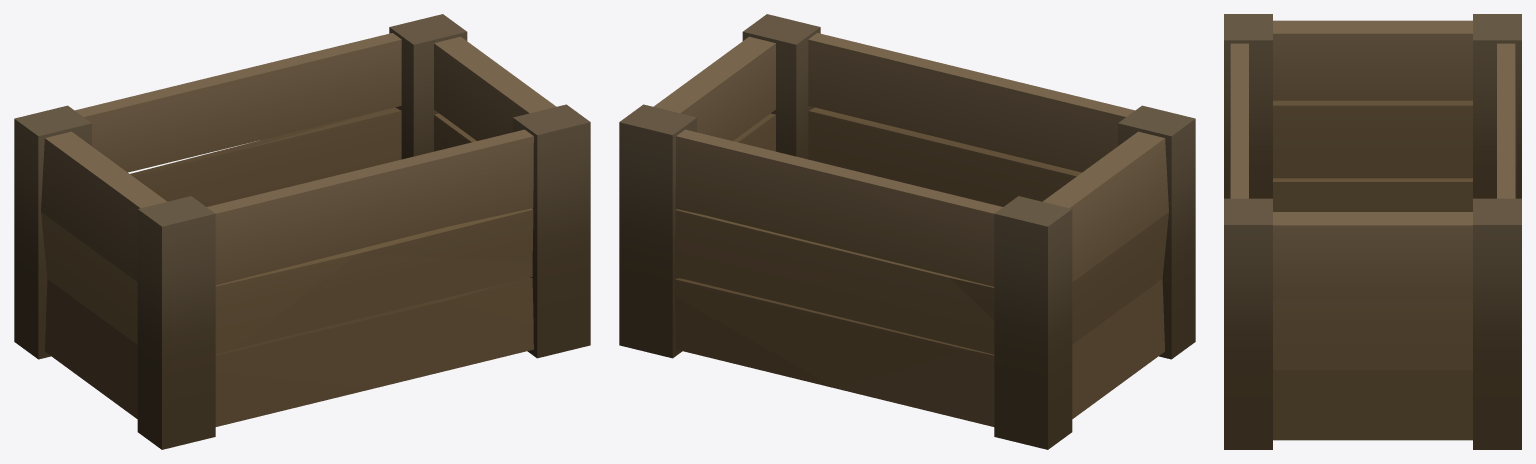
Rendered from WoodenCrate_S.fbx.
3 renders of one model, left to right at view 1: azimuth 30°, elevation 25°; view 2: azimuth 150°, elevation 25°; view 3: azimuth 270°, elevation 25°, orthographic.
Visible parts, largest first — view 1: WoodenCrate_S; view 2: WoodenCrate_S; view 3: WoodenCrate_S.
Part boxes in pixels (box(x1,y1,x2,y2)): WoodenCrate_S: box(14, 14, 590, 449); WoodenCrate_S: box(619, 14, 1195, 449); WoodenCrate_S: box(1224, 14, 1521, 449).
Bounding box in the file's own units: 1 × 0.5 × 0.6.
Materials: 1 (1 with a texture image).
